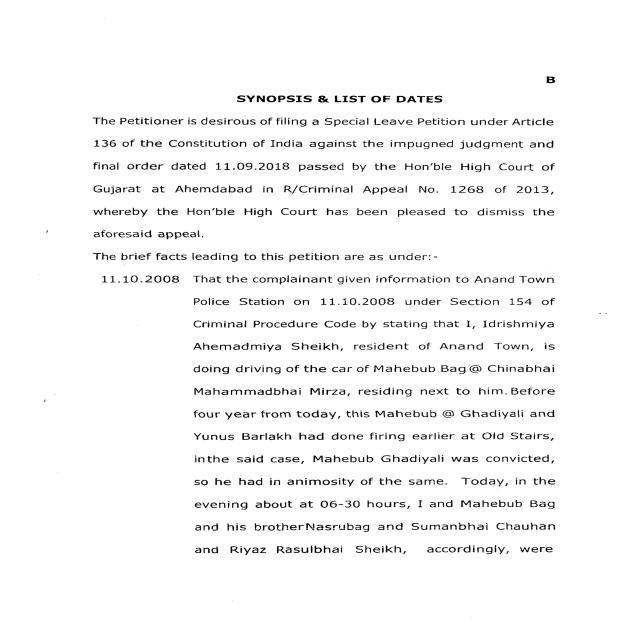page-number: (450, 42, 640, 117)
